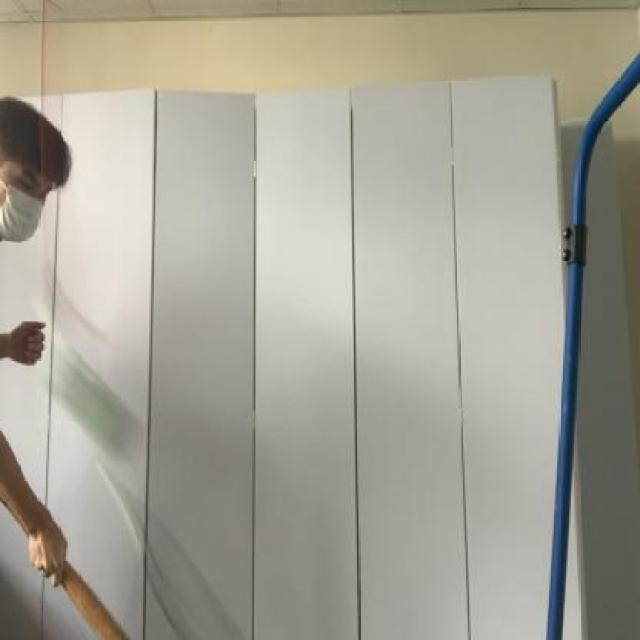baseball: (39, 346, 141, 466)
